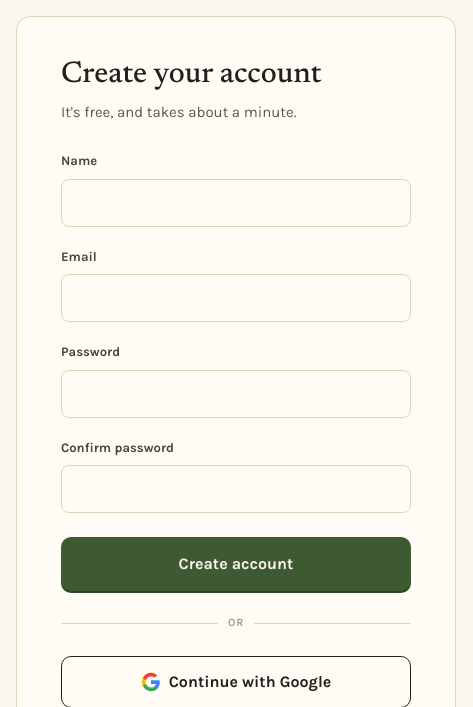
Test case: RegisterPage › checks the fields before sending anything
This screenshot has width=473, height=707.
Type "Jamie Alder" into the field labelled "Name" at (236, 202), box [61,178,411,226]
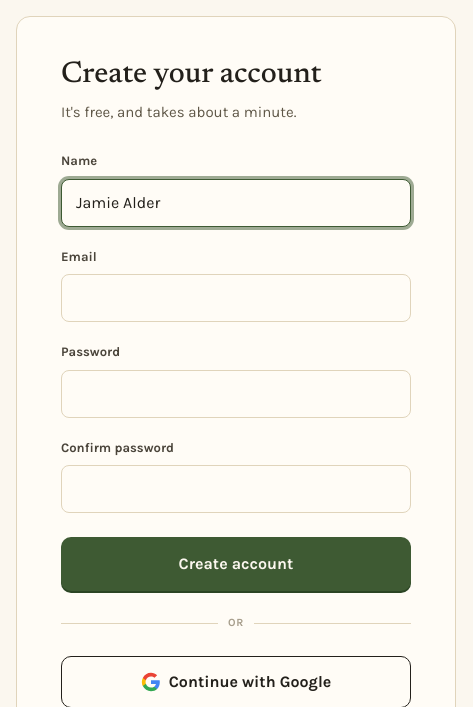
Type "jamie@example.com" into the field labelled "Email" at (236, 298), box [61,274,411,322]
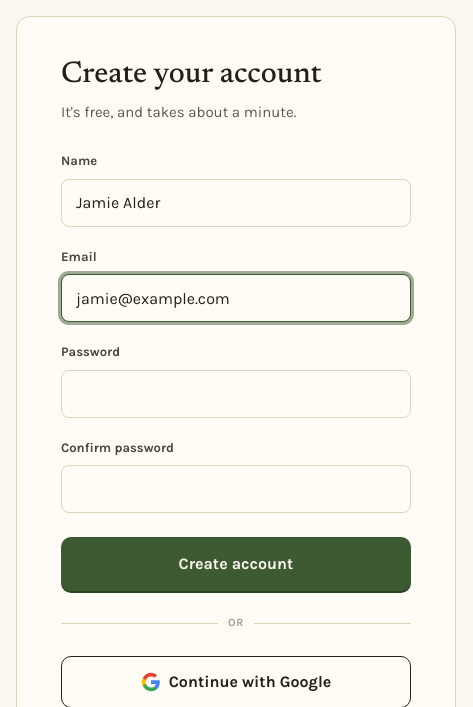
Type "short" into the password field labelled "Password" at (236, 394), box [61,370,411,418]
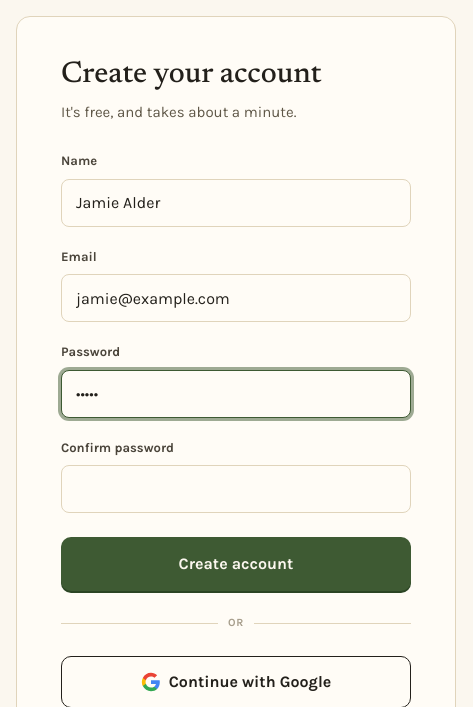
Type "shorter" into the password field labelled "Confirm password" at (236, 489), box [61,465,411,513]
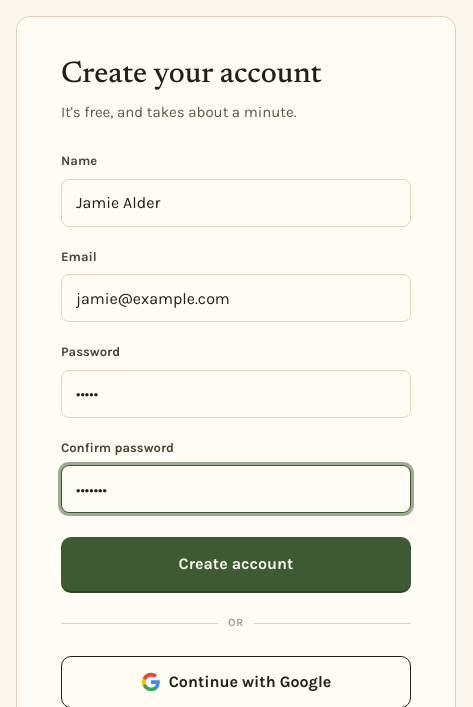
Click the button "Create account" at (236, 564), box [61,537,411,591]
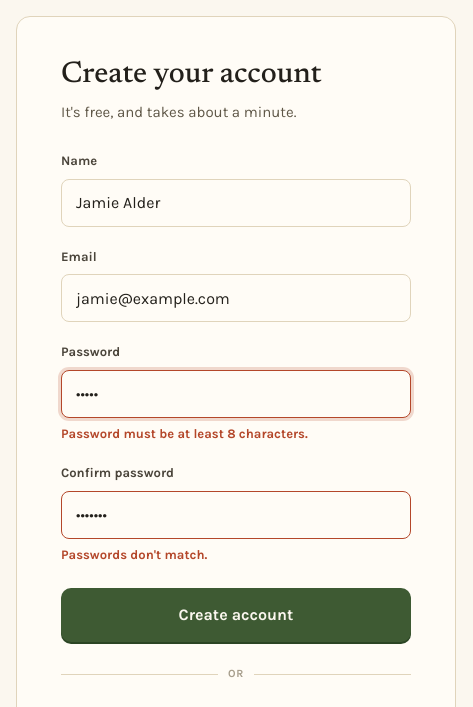
Expected: the text "Password must be at least 8 characters." is shown, [61,426,308,440]
Expected: the text "Passwords don't match." is shown, [61,546,207,562]
